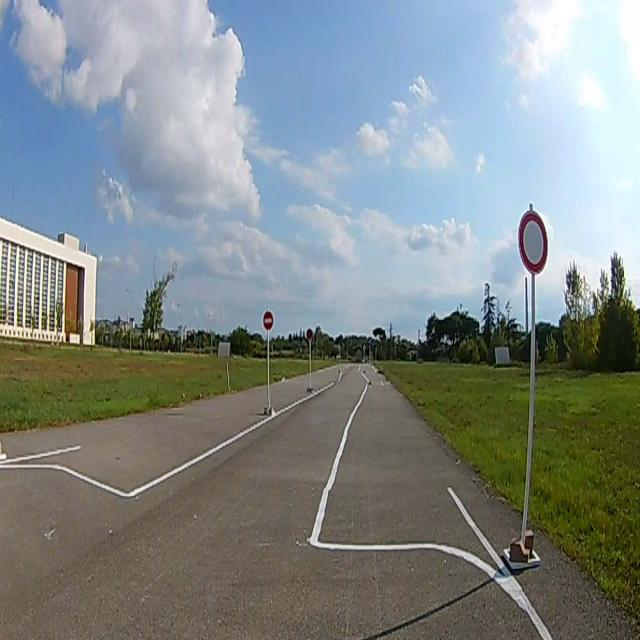girisyok: (263, 312, 273, 329)
